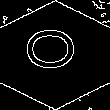O_E: (26, 34, 84, 76)
